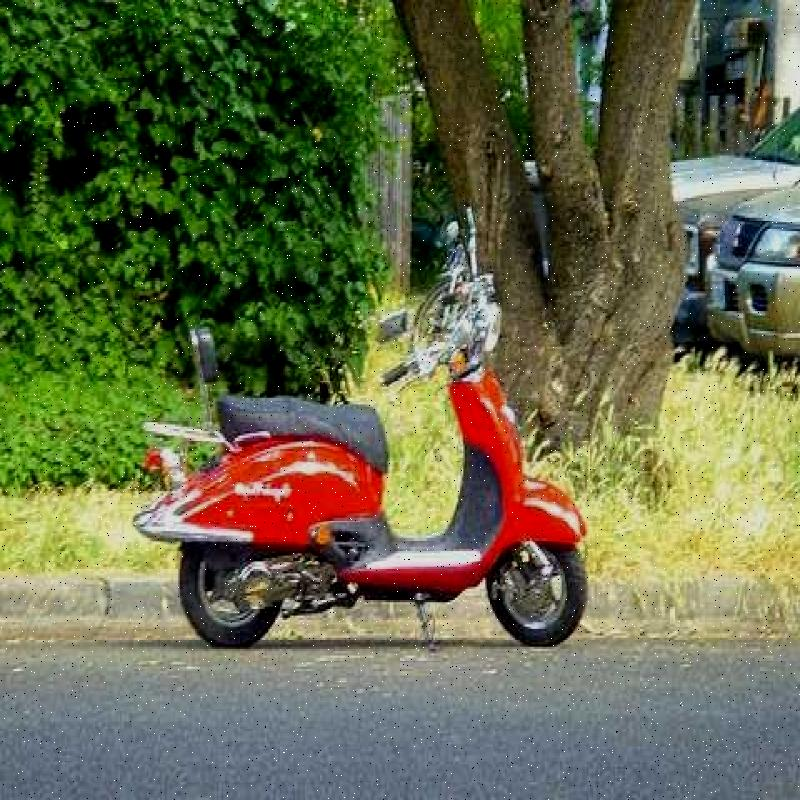bike: (152, 207, 587, 656)
